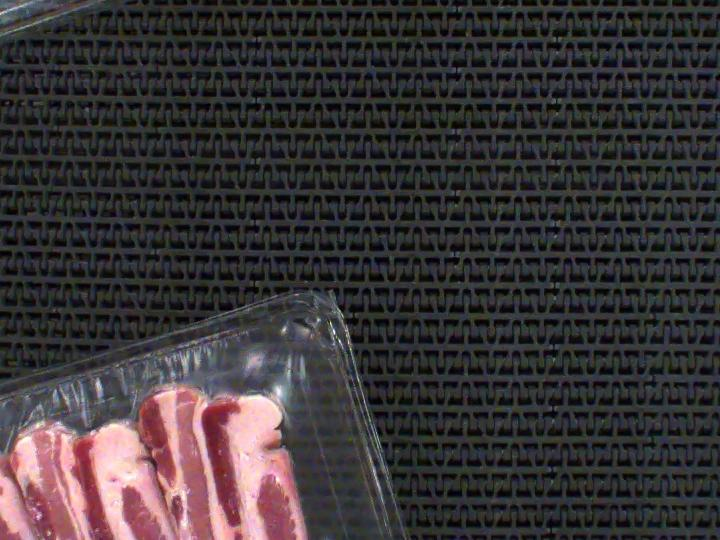unsealed: (0, 317, 393, 540)
